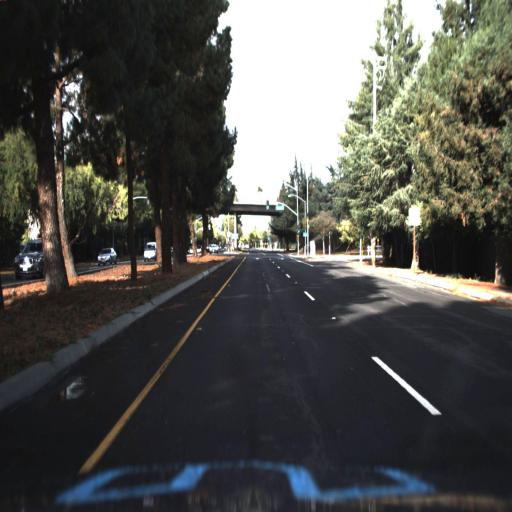car: (13, 238, 50, 282), (96, 246, 118, 269), (144, 239, 160, 260)
